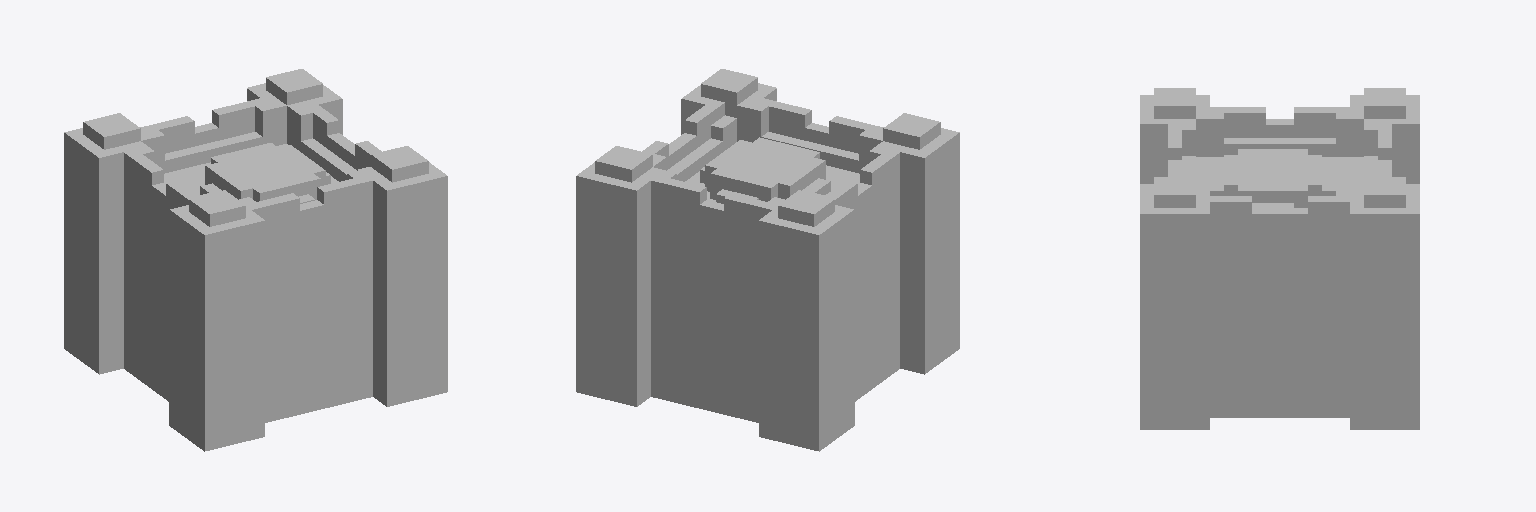
Rendered from TowerDefenceModels-2.obj.
3 renders of one model, left to right at view 1: azimuth 30°, elevation 25°; view 2: azimuth 150°, elevation 25°; view 3: azimuth 270°, elevation 25°, orthographic.
Visible parts, largest first — view 1: object 1; view 2: object 1; view 3: object 1.
Boxes of the visible parts, x1=… form: object 1: x1=64, y1=69, x2=447, y2=451; object 1: x1=576, y1=69, x2=959, y2=451; object 1: x1=1140, y1=88, x2=1419, y2=429.
Bounding box in the file's own units: 2 × 1.8 × 2.